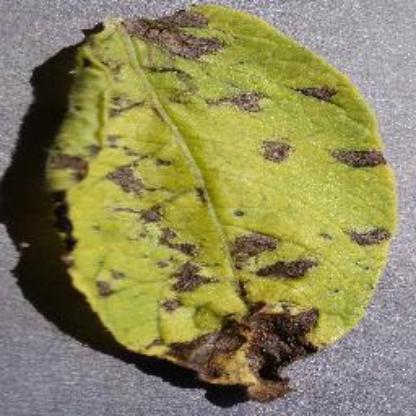Early-Blight: (44, 6, 396, 400)
